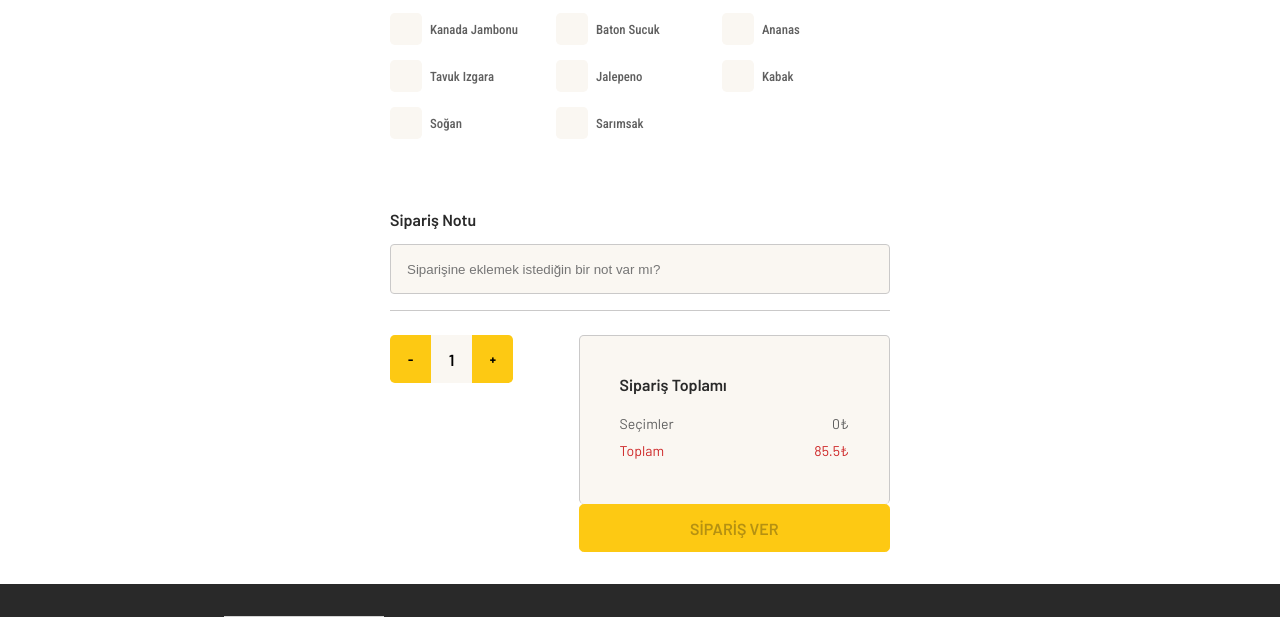
Test: Form › Pizza adedi değiştirilebiliyor.
(page scrolled)
Click the button with test id "button-incr".
click(493, 359)  # box [472,335,513,383]
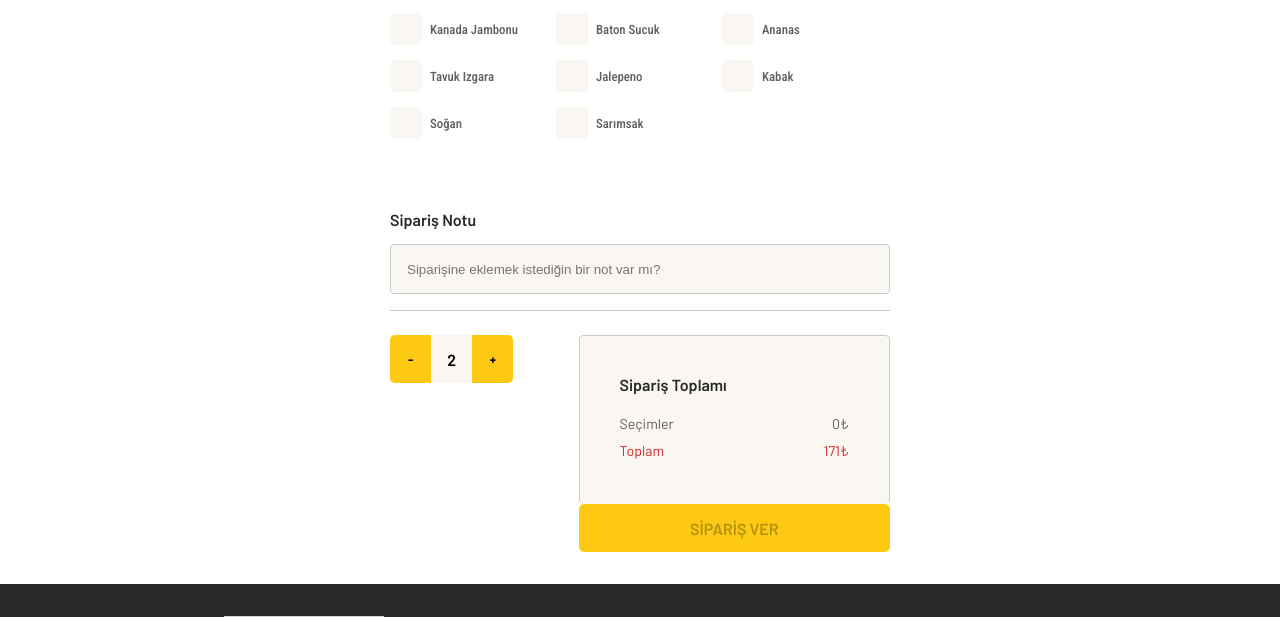
Click the button with test id "button-incr".
click(493, 359)  # box [472,335,513,383]
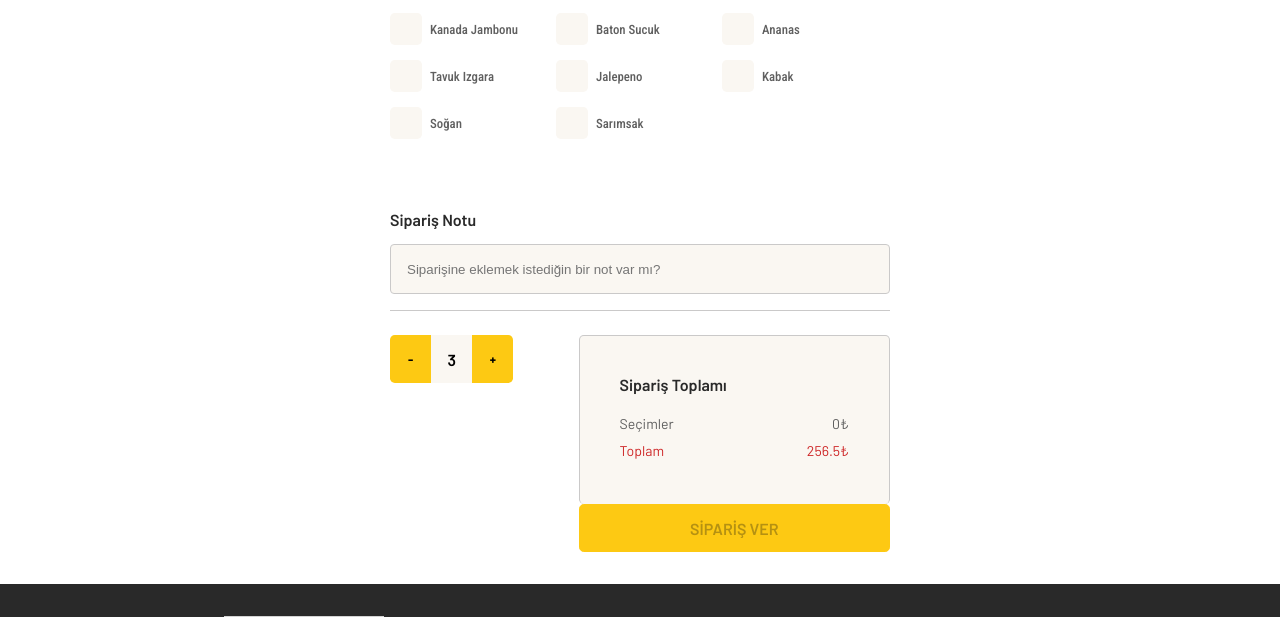
Click the button with test id "button-desc".
click(411, 359)  # box [390,335,431,383]
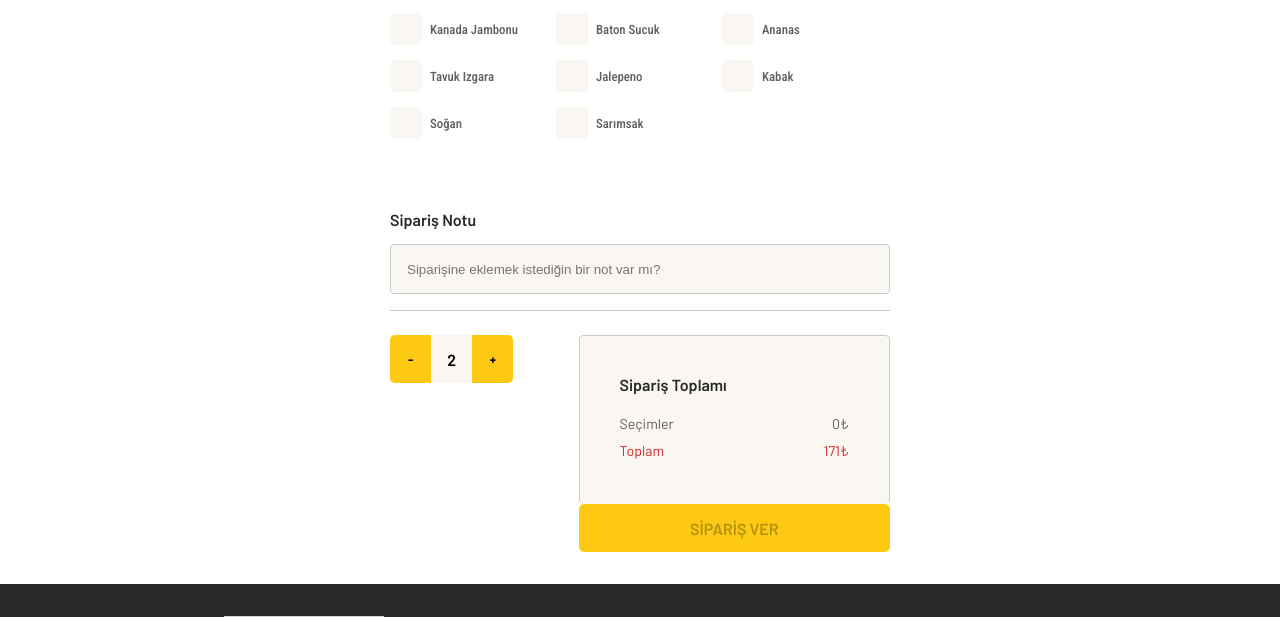
Check: the heading "2" is shown, box [431,335,472,383]
